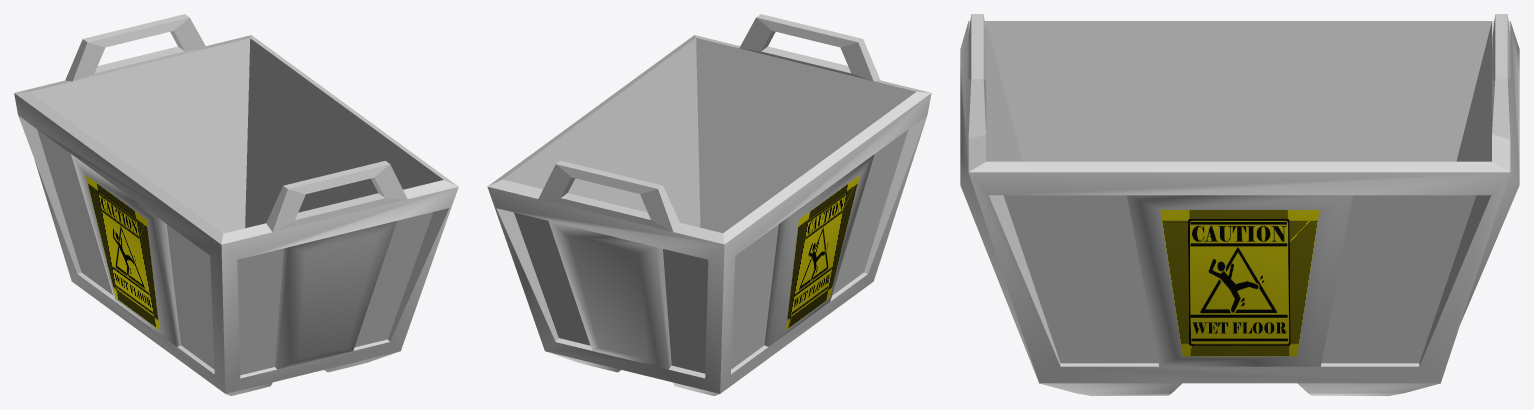
File: Bucket.fbx
3 views of the same model, side by side, from view 1: azimuth 30°, elevation 25°; view 2: azimuth 150°, elevation 25°; view 3: azimuth 270°, elevation 25° (orthographic). The views are drawn at different scales.
Visible parts, largest first — view 1: Bucket; view 2: Bucket; view 3: Bucket.
Part boxes in pixels (x1,y1,x2,y2): Bucket: (14,14,458,395); Bucket: (487,14,931,395); Bucket: (960,14,1519,395).
Bounding box in the file's own units: 70.4 × 65.49 × 107.
